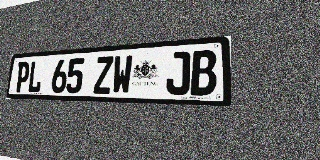5: (66, 58, 84, 93)
6: (51, 59, 69, 93)
B: (190, 49, 217, 96)
J: (166, 51, 190, 95)
L: (27, 60, 44, 93)
P: (15, 61, 30, 92)
W: (111, 55, 133, 94)
Z: (93, 56, 113, 94)
